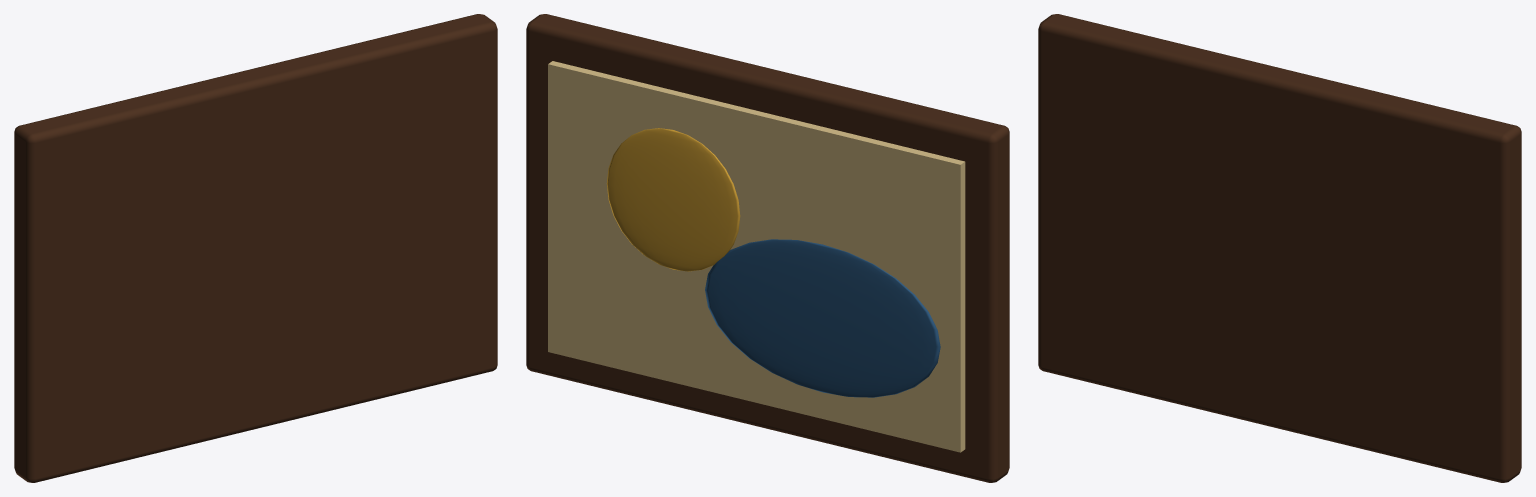
The model's file is Frame.obj.
3 views of the same model, side by side, from view 1: azimuth 30°, elevation 25°; view 2: azimuth 150°, elevation 25°; view 3: azimuth 330°, elevation 25° (orthographic).
Parts seen in each view (by area): view 1: Frame; view 2: Frame; view 3: Frame.
Part boxes in pixels (x1=…): Frame: x1=14, y1=14, x2=497, y2=482; Frame: x1=526, y1=14, x2=1009, y2=482; Frame: x1=1038, y1=14, x2=1521, y2=482.
Bounding box in the file's own units: 1.2 × 0.85 × 0.12.
